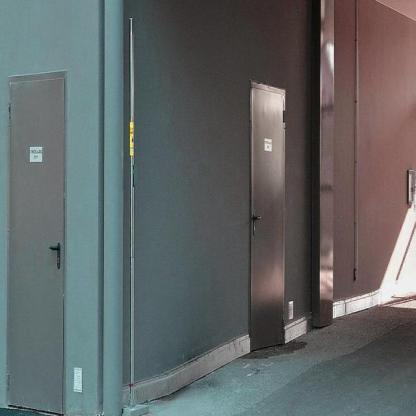door: (4, 64, 72, 415), (250, 74, 290, 357)
